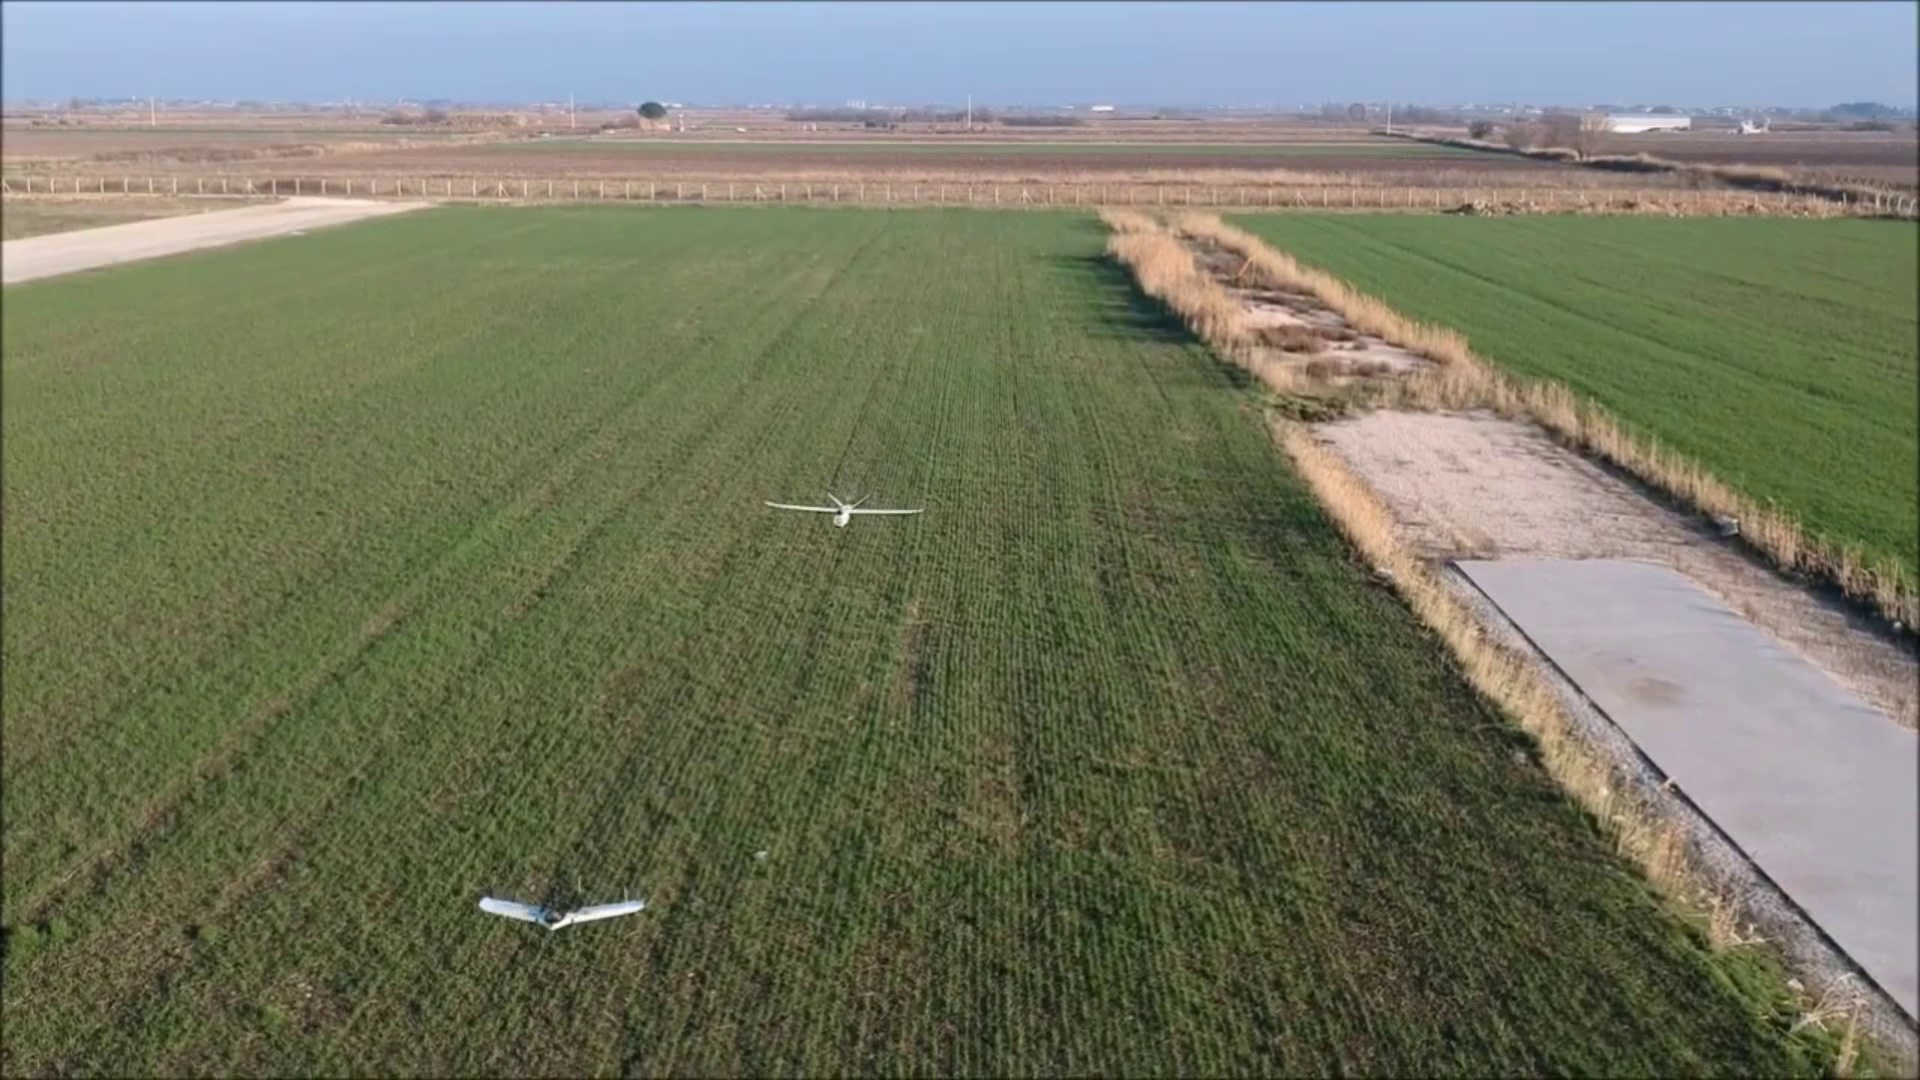airplane: (477, 887, 647, 934)
